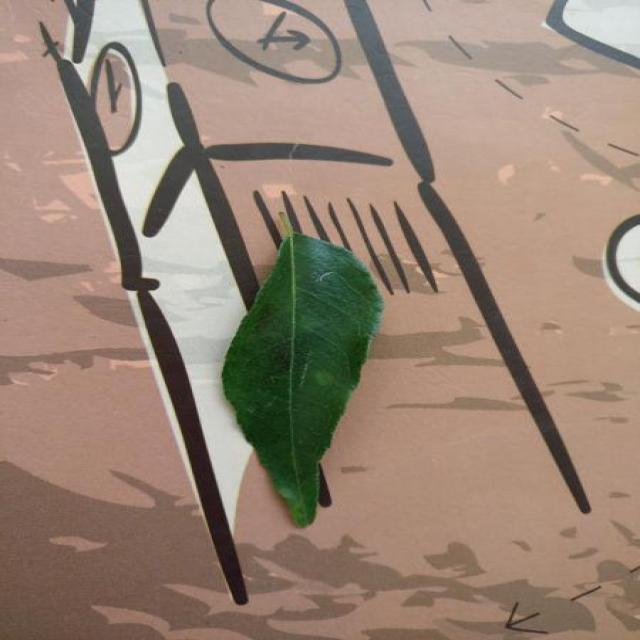curry: (222, 234, 383, 527)
